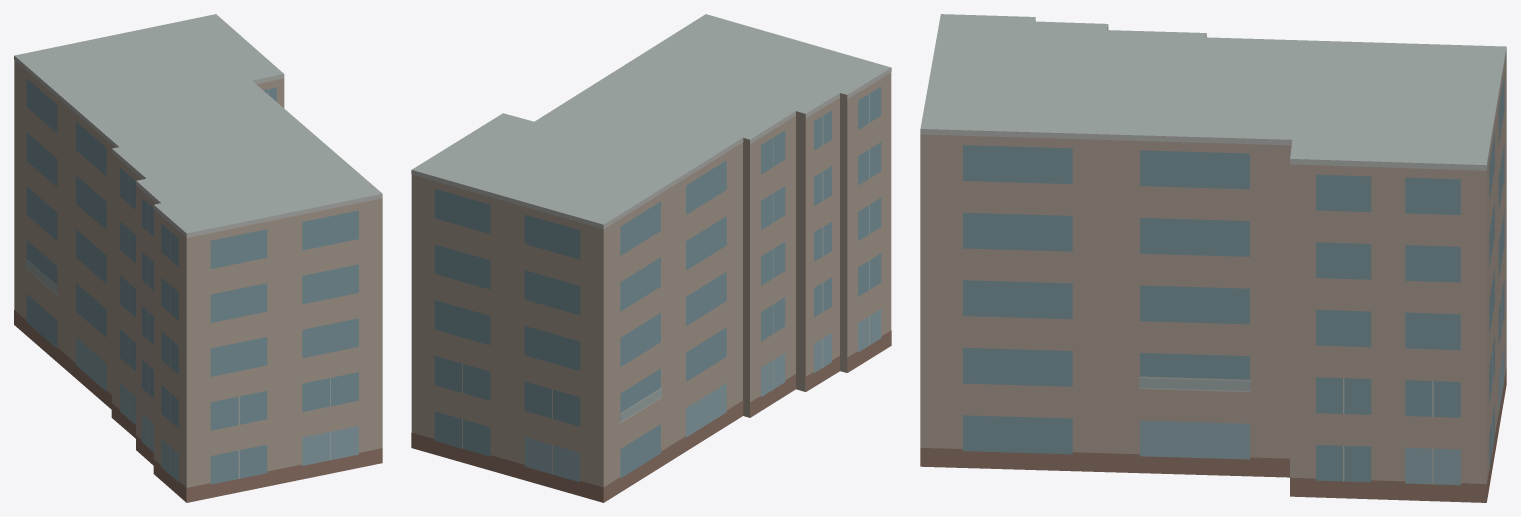
Rendered from survey-upis-33021652.glb.
The picture shows the model from 3 angles, left to right: view 1: azimuth 30°, elevation 25°; view 2: azimuth 150°, elevation 25°; view 3: azimuth 270°, elevation 25°; orthographic projection. The views are drawn at different scales.
Parts seen in each view (by area): view 1: survey-upis-33021652.tmp; view 2: survey-upis-33021652.tmp; view 3: survey-upis-33021652.tmp.
Part boxes in pixels (left/top/right/bottom): survey-upis-33021652.tmp: left=14, top=14, right=382, bottom=502; survey-upis-33021652.tmp: left=411, top=14, right=891, bottom=502; survey-upis-33021652.tmp: left=920, top=14, right=1506, bottom=502.
Bounding box in the file's own units: 14.17 × 14.75 × 23.21.
